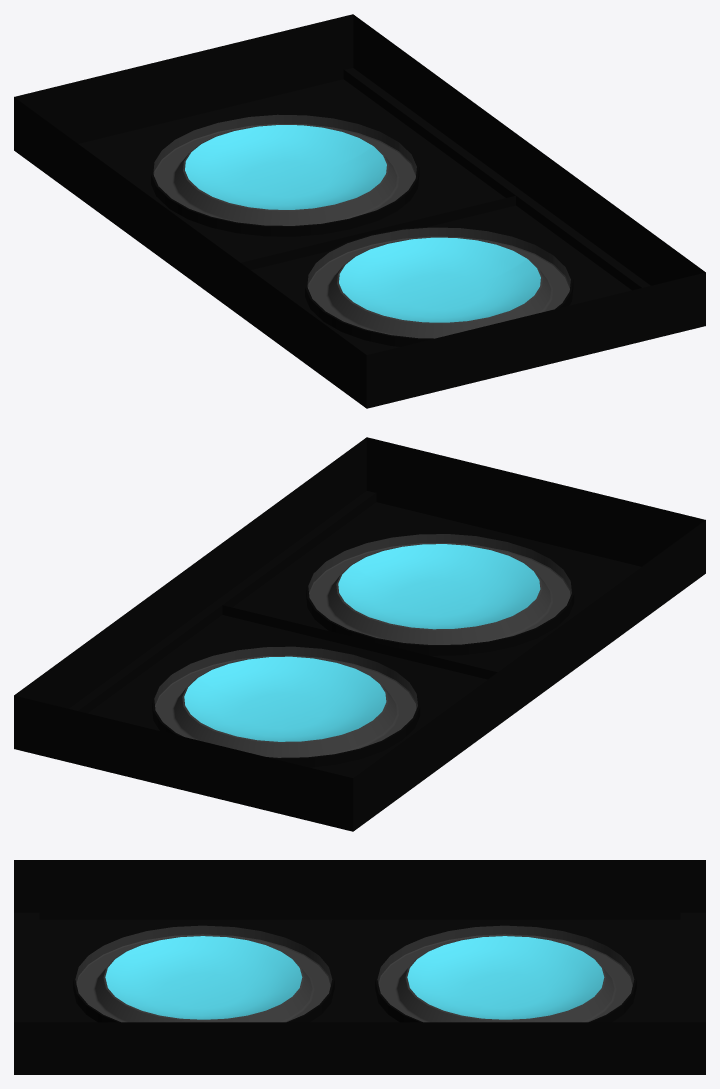
The model's file is SM_Rooflight_020b.FBX.
3 renders of one model, top to bottom at view 1: azimuth 30°, elevation 25°; view 2: azimuth 150°, elevation 25°; view 3: azimuth 270°, elevation 25°, orthographic.
Parts seen in each view (by area): view 1: SM_Rooflight_020b; view 2: SM_Rooflight_020b; view 3: SM_Rooflight_020b.
Part boxes in pixels (x1,y1,x2,y2): SM_Rooflight_020b: (14, 14, 705, 408); SM_Rooflight_020b: (14, 437, 705, 831); SM_Rooflight_020b: (14, 860, 705, 1074).
Size of the model in its own units: 23.78 by 42.85 by 3.59.
